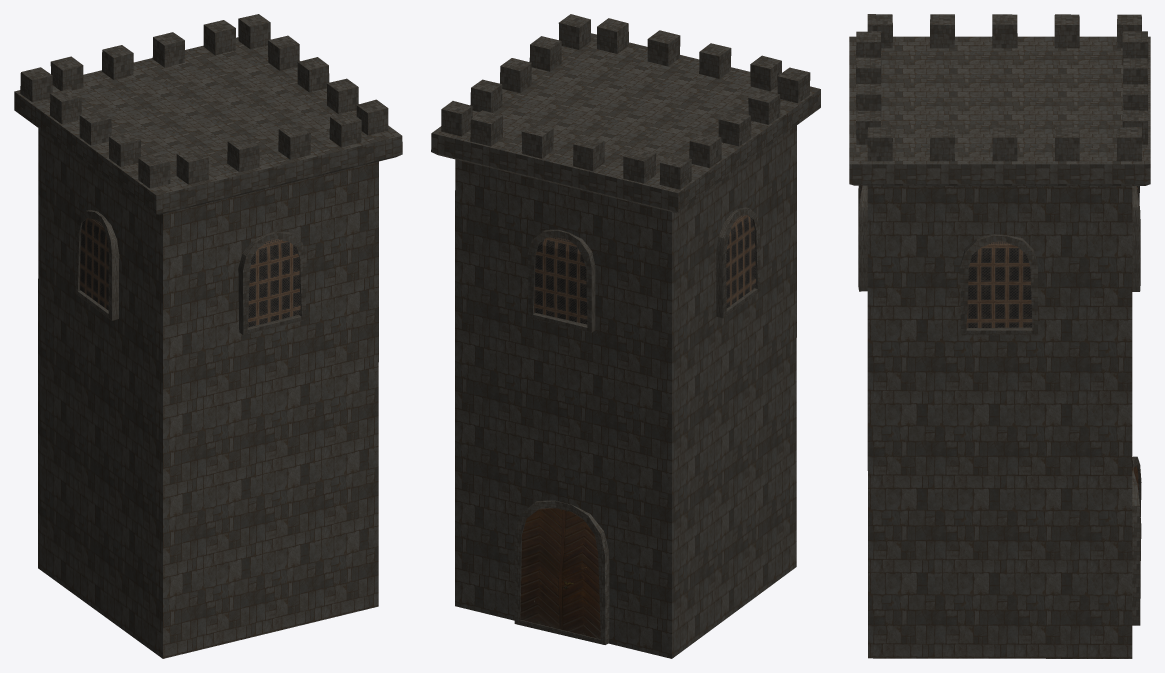
Rendered from castle-tower.glb.
The picture shows the model from 3 angles, left to right: view 1: azimuth 30°, elevation 25°; view 2: azimuth 150°, elevation 25°; view 3: azimuth 270°, elevation 25°; orthographic projection. The views are drawn at different scales.
Parts seen in each view (by area): view 1: Tower; view 2: Tower; view 3: Tower.
Boxes of the visible parts, x1=… form: Tower: x1=14, y1=14, x2=402, y2=658; Tower: x1=431, y1=14, x2=820, y2=658; Tower: x1=849, y1=14, x2=1150, y2=658.
Size of the model in its own units: 4.53 by 8.72 by 4.53.
Materials: 4 (4 with a texture image).
